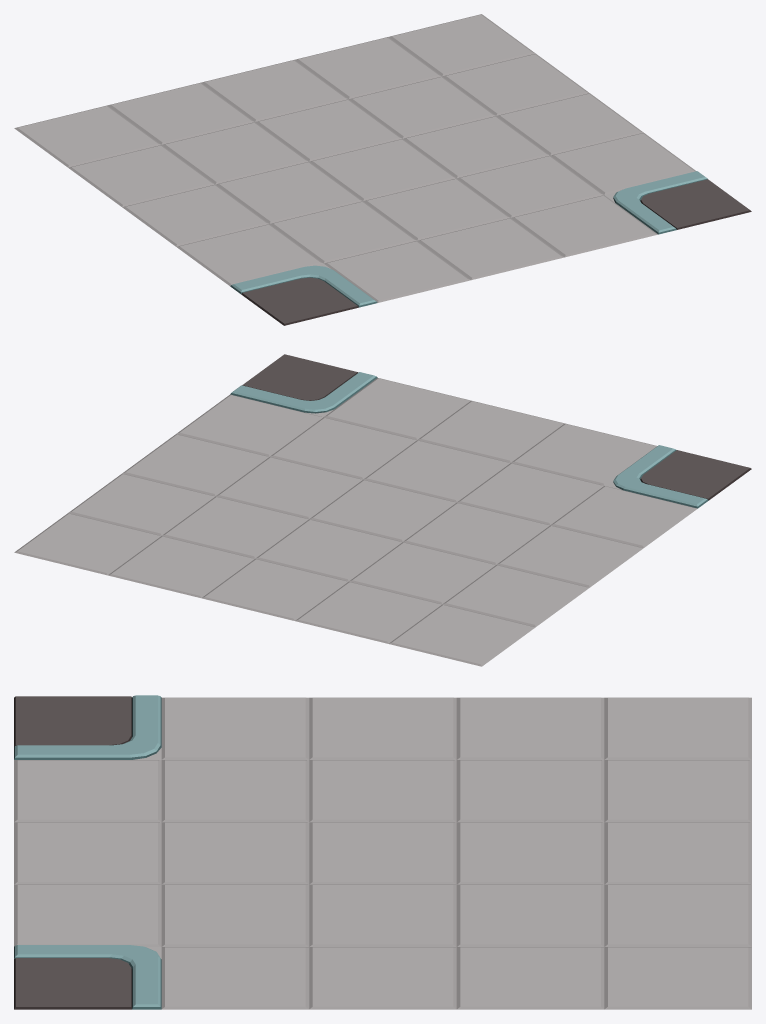
File: EmptyFork_0.glb
The picture shows the model from 3 angles, top to bottom: view 1: azimuth 30°, elevation 25°; view 2: azimuth 150°, elevation 25°; view 3: azimuth 270°, elevation 25°; orthographic projection. The views are drawn at different scales.
Parts seen in each view (by area): view 1: EmptyFork_0; view 2: EmptyFork_0; view 3: EmptyFork_0.
Boxes of the visible parts, x1=… form: EmptyFork_0: x1=14, y1=14, x2=751, y2=325; EmptyFork_0: x1=14, y1=354, x2=751, y2=666; EmptyFork_0: x1=14, y1=695, x2=751, y2=1009.
Size of the model in its own units: 16 by 0.0884 by 16.
1 material, 1 textured.
